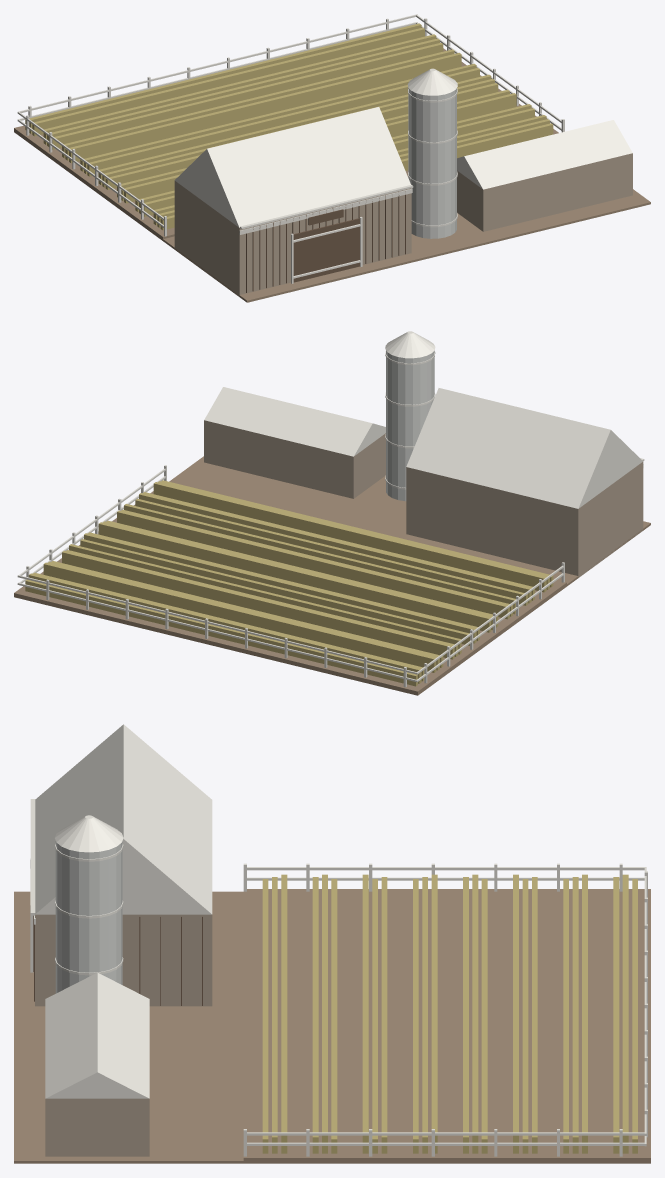
Rendered from farm_4x4_c.glb.
3 renders of one model, top to bottom at view 1: azimuth 30°, elevation 25°; view 2: azimuth 150°, elevation 25°; view 3: azimuth 270°, elevation 25°, orthographic. The views are drawn at different scales.
Visible parts, largest first — view 1: farm_4x4_c_yard; view 2: farm_4x4_c_yard; view 3: farm_4x4_c_yard.
Part boxes in pixels (x1,y1,x2,y2): farm_4x4_c_yard: [14, 14, 650, 302]; farm_4x4_c_yard: [14, 331, 650, 695]; farm_4x4_c_yard: [14, 724, 650, 1163].
Size of the model in its own units: 30.5 by 11.6 by 30.5.
